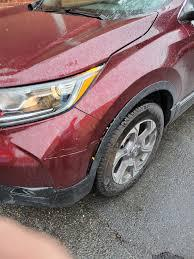front-bumper-dent: (1, 107, 130, 207)
